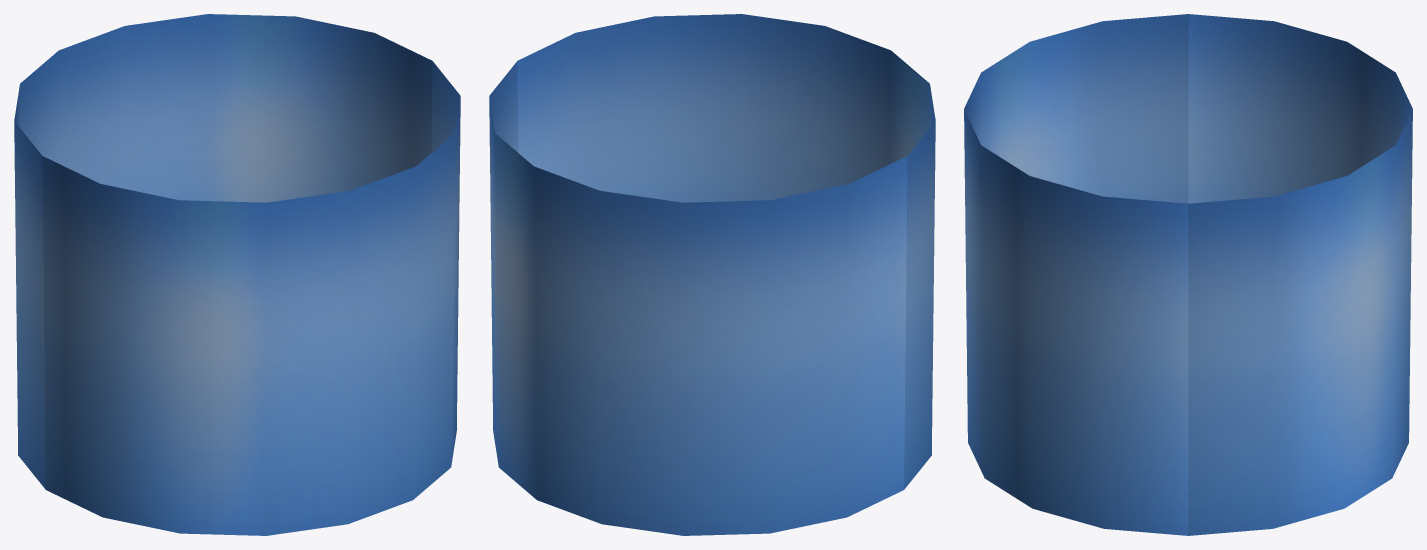
File: Juice_Bottle_Label_01.fbx
The picture shows the model from 3 angles, left to right: view 1: azimuth 30°, elevation 25°; view 2: azimuth 150°, elevation 25°; view 3: azimuth 270°, elevation 25°; orthographic projection.
Visible parts, largest first — view 1: Juice_Bottle_Label_01; view 2: Juice_Bottle_Label_01; view 3: Juice_Bottle_Label_01.
Boxes of the visible parts, <box> form: Juice_Bottle_Label_01: <box>14,14,460,535</box>; Juice_Bottle_Label_01: <box>489,14,935,535</box>; Juice_Bottle_Label_01: <box>964,14,1412,535</box>.
Bounding box in the file's own units: 36.85 × 30.24 × 36.85.
